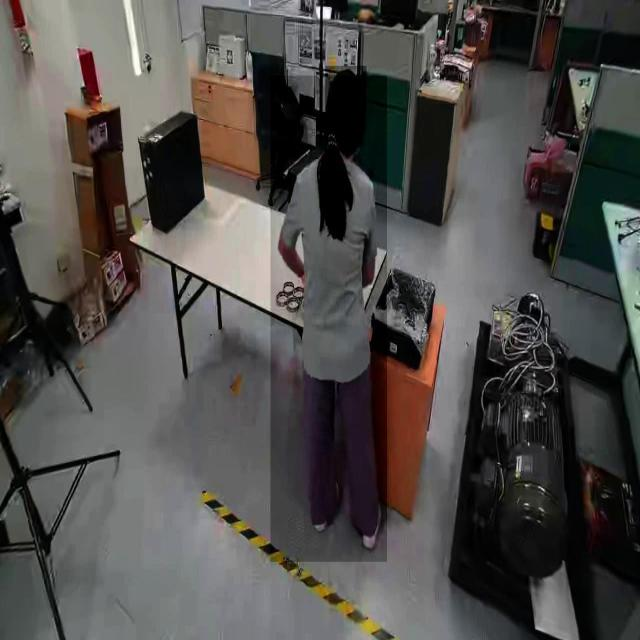head_nohelmet: (325, 66, 367, 111)
person: (270, 75, 388, 562)
